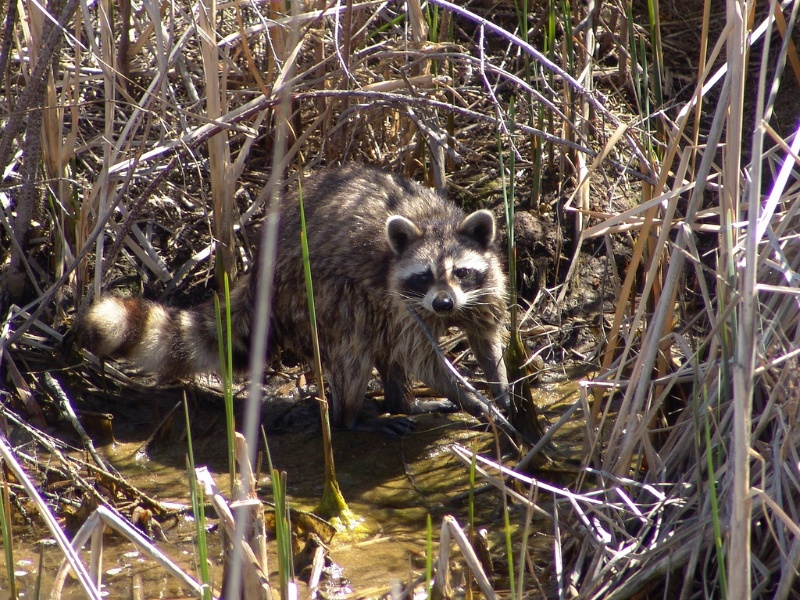raccoon: (77, 159, 523, 442)
